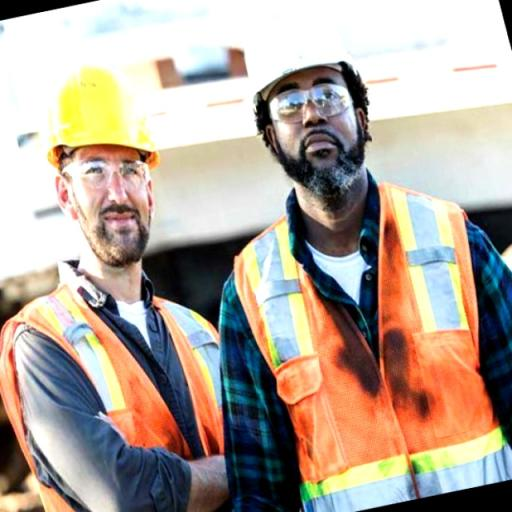Person: (214, 18, 505, 506), (4, 58, 238, 510)
goggles: (58, 160, 160, 194), (264, 86, 358, 120)
helmet: (45, 63, 165, 162), (238, 16, 364, 86)
vest: (214, 178, 510, 488), (2, 290, 234, 488)
